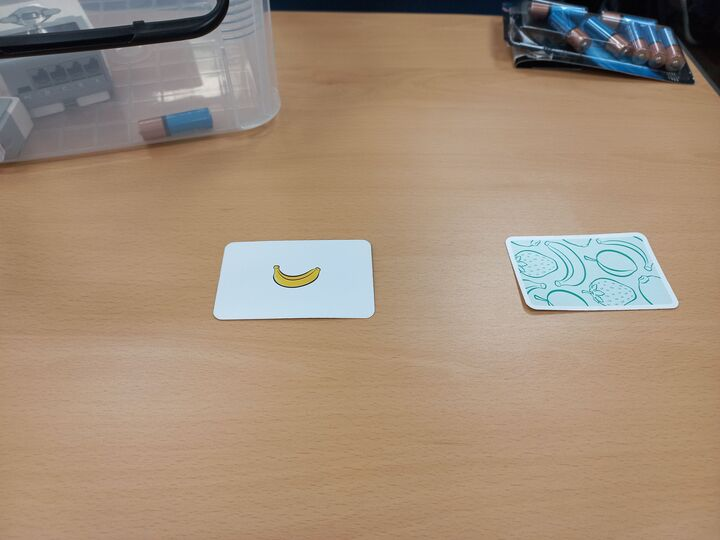banana1: (213, 237, 378, 320)
